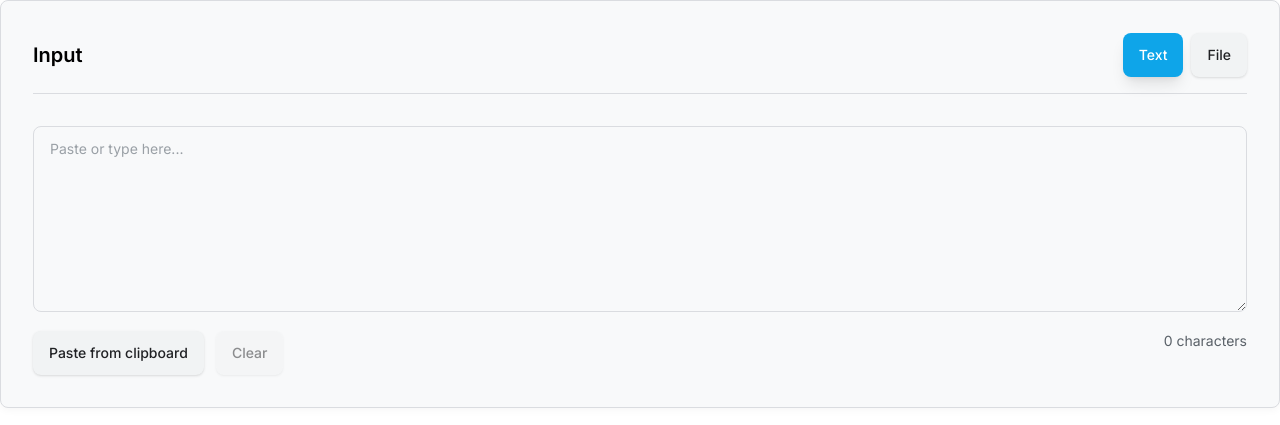
Test: ImportPanel › pastes text from clipboard when clicking paste button
Click the button "Paste from clipboard".
click(118, 353)  # box [33, 331, 204, 375]
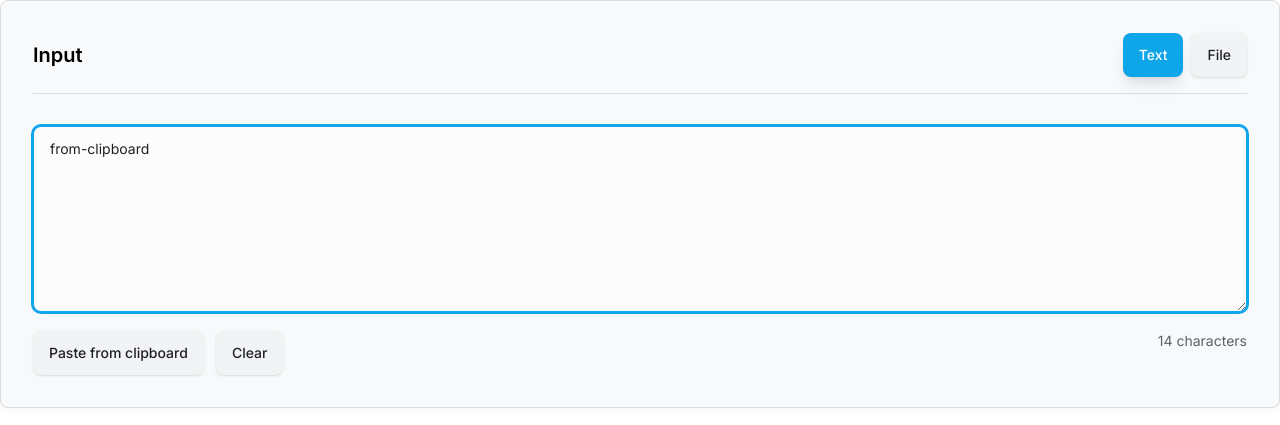
expect the text "14 characters" is shown: met, box [1158, 332, 1247, 349]
